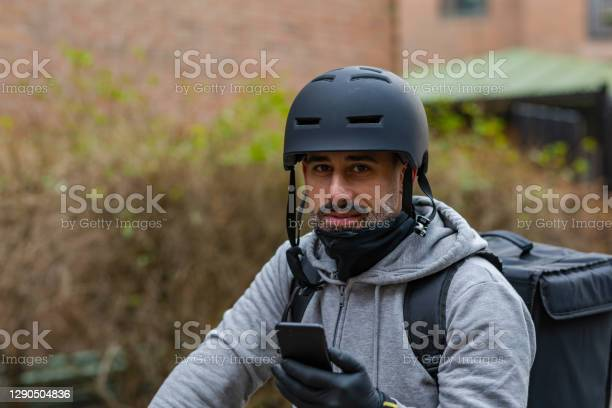helmet: (283, 66, 429, 245)
